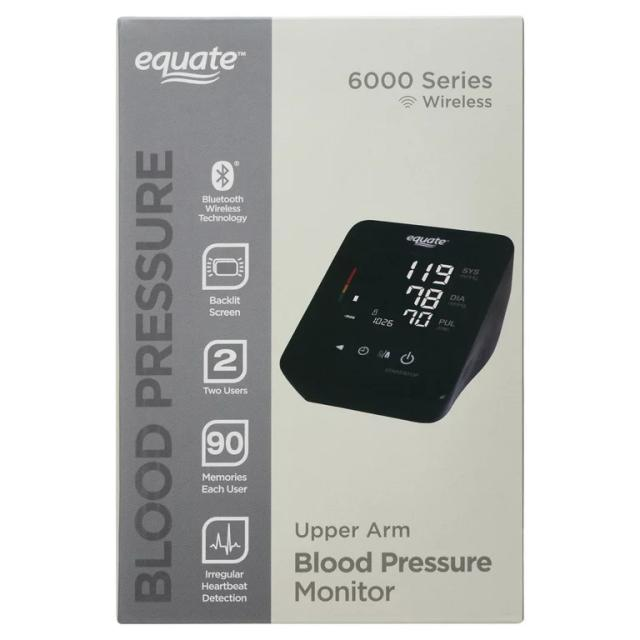dia: (400, 278, 449, 312)
pul: (393, 303, 441, 334)
ssd: (328, 240, 497, 361)
sys: (398, 253, 459, 290)
